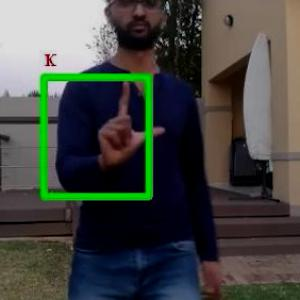land_hand: (83, 72, 169, 172)
